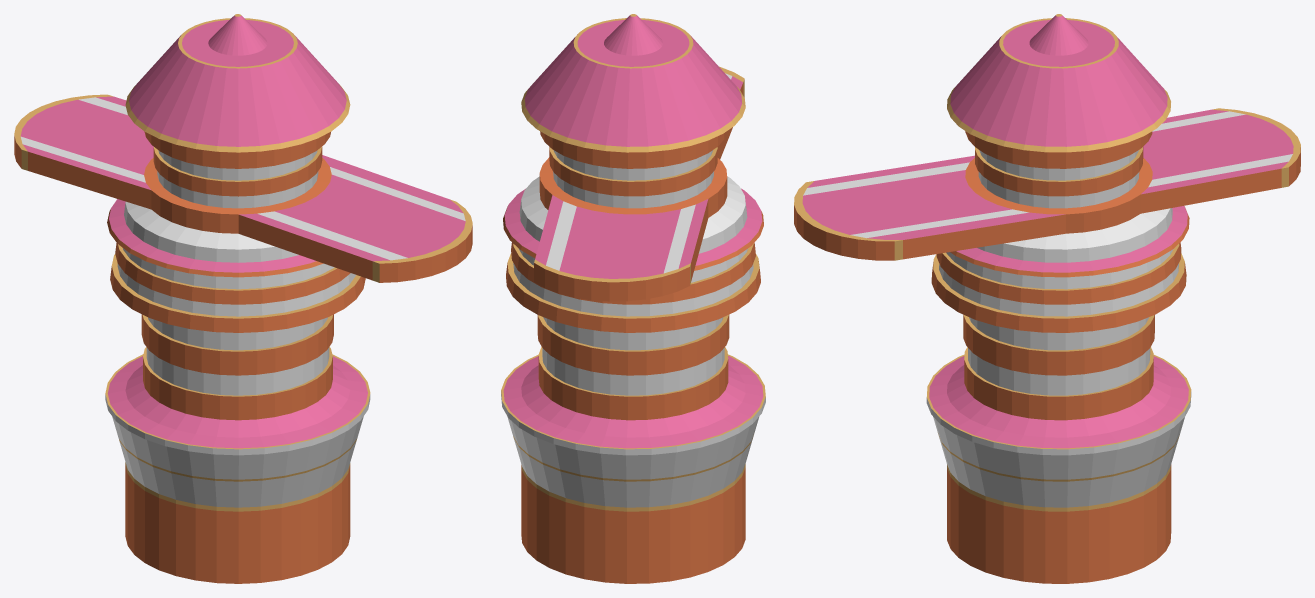
File: Tirreis.fbx
3 views of the same model, side by side, from view 1: azimuth 30°, elevation 25°; view 2: azimuth 150°, elevation 25°; view 3: azimuth 270°, elevation 25° (orthographic).
Parts seen in each view (by area): view 1: torre.007; view 2: torre.007; view 3: torre.007.
Boxes of the visible parts, box(x1,y1,x2,y2) form: torre.007: box(14, 14, 472, 583); torre.007: box(501, 14, 765, 583); torre.007: box(794, 14, 1300, 583).
Bounding box in the file's own units: 522 × 952 × 839.
